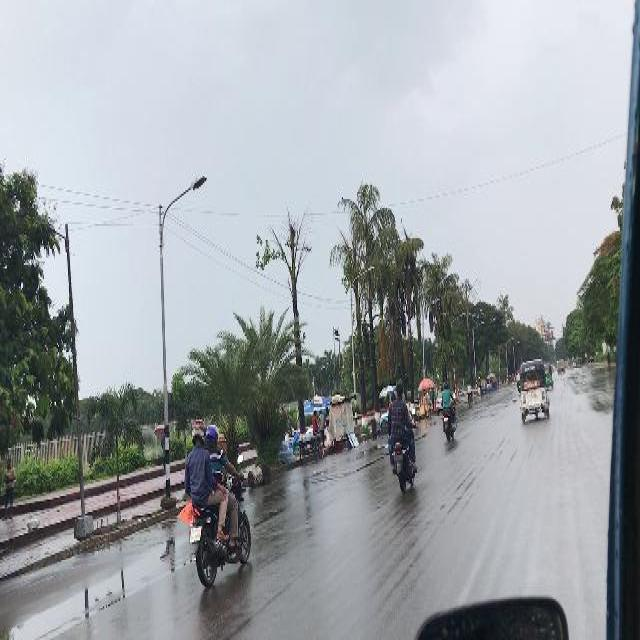10: (182, 416, 252, 590), (386, 382, 418, 494), (440, 379, 458, 442), (516, 369, 520, 392)
11: (556, 358, 564, 374)
17: (519, 357, 549, 422), (544, 362, 554, 388)
20: (298, 427, 324, 465)
5: (436, 390, 440, 414)
Motorcycle: (466, 380, 472, 409)
